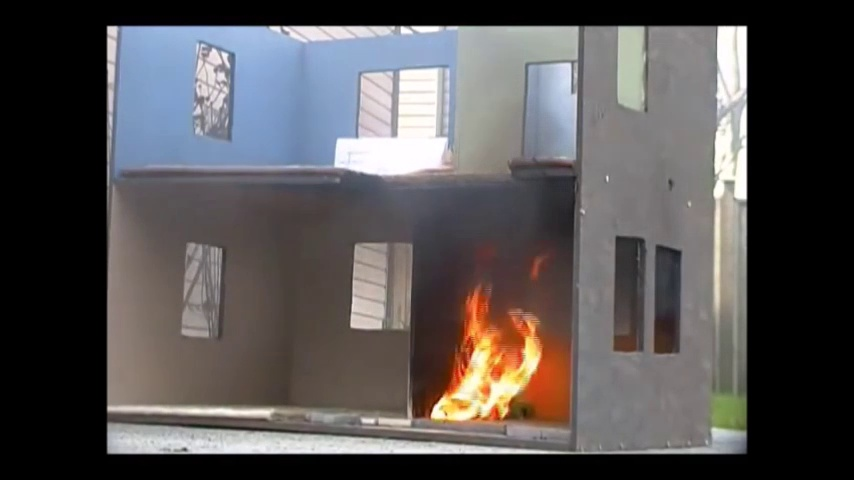fire: (425, 288, 543, 424)
